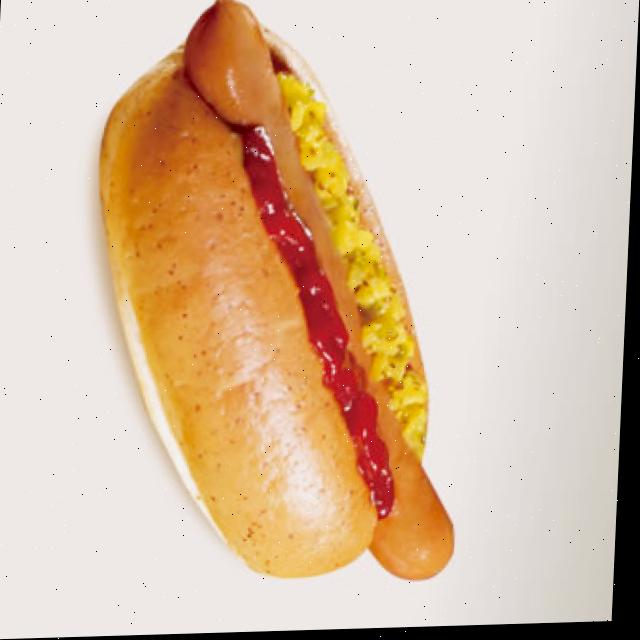汉堡快餐: (46, 0, 535, 626)
